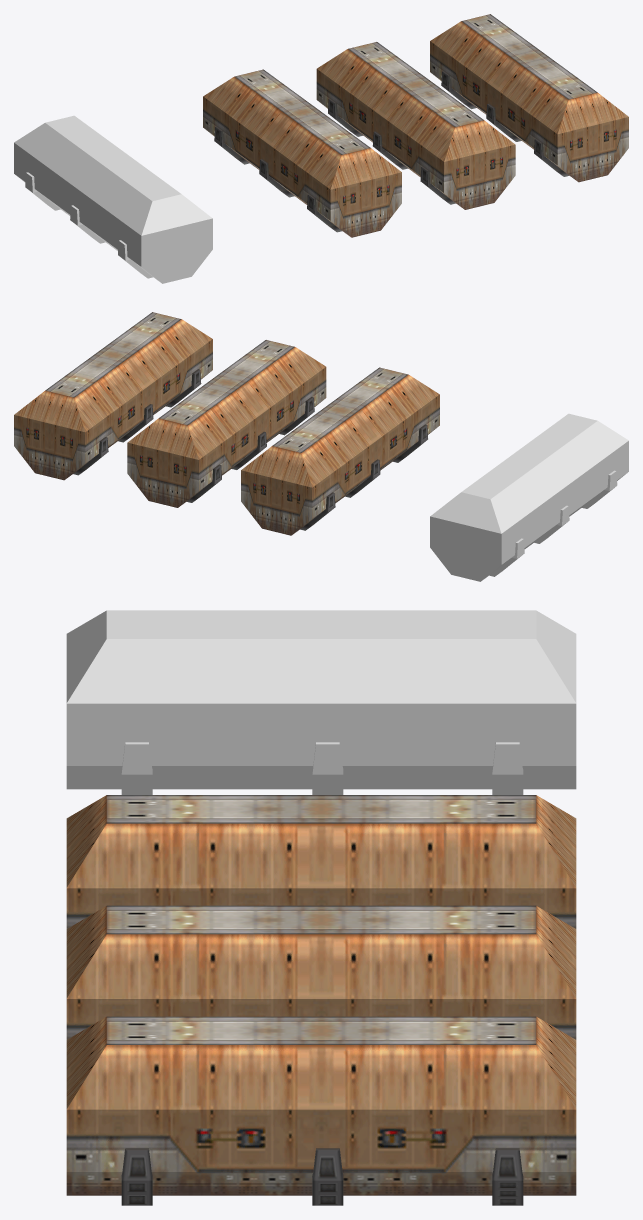
The model's file is ksh_sec_ms_orecanisterhuge.dae.
3 views of the same model, one above another, from view 1: azimuth 30°, elevation 25°; view 2: azimuth 150°, elevation 25°; view 3: azimuth 270°, elevation 25° (orthographic). The views are drawn at different scales.
Parts seen in each view (by area): view 1: MULT[root_mesh]_LOD[1], COL[Root], MULT[root_mesh]_LOD[2], MULT[root_mesh]_LOD[0]; view 2: MULT[root_mesh]_LOD[1], MULT[root_mesh]_LOD[2], COL[Root], MULT[root_mesh]_LOD[0]; view 3: MULT[root_mesh]_LOD[2], COL[Root], MULT[root_mesh]_LOD[1], MULT[root_mesh]_LOD[0].
Boxes of the visible parts, x1,y1,x2,y2 form: MULT[root_mesh]_LOD[1]: (316,42,515,209); COL[Root]: (14,115,212,283); MULT[root_mesh]_LOD[2]: (430,14,628,182); MULT[root_mesh]_LOD[0]: (203,69,401,237); MULT[root_mesh]_LOD[1]: (127,340,326,507); MULT[root_mesh]_LOD[2]: (14,312,212,480); COL[Root]: (430,413,628,581); MULT[root_mesh]_LOD[0]: (241,367,439,535); MULT[root_mesh]_LOD[2]: (66,1016,576,1205); COL[Root]: (66,610,576,794); MULT[root_mesh]_LOD[1]: (66,905,576,1039); MULT[root_mesh]_LOD[0]: (66,795,576,928).
Bounding box in the file's own units: 1264 × 196 × 567.
3 materials, 3 textured.
